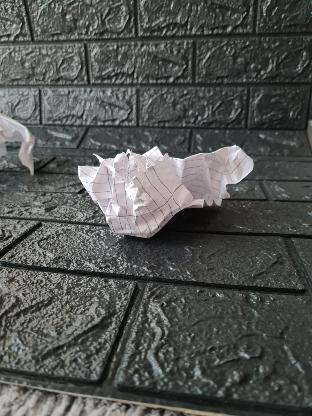Paper: (77, 145, 260, 240)
